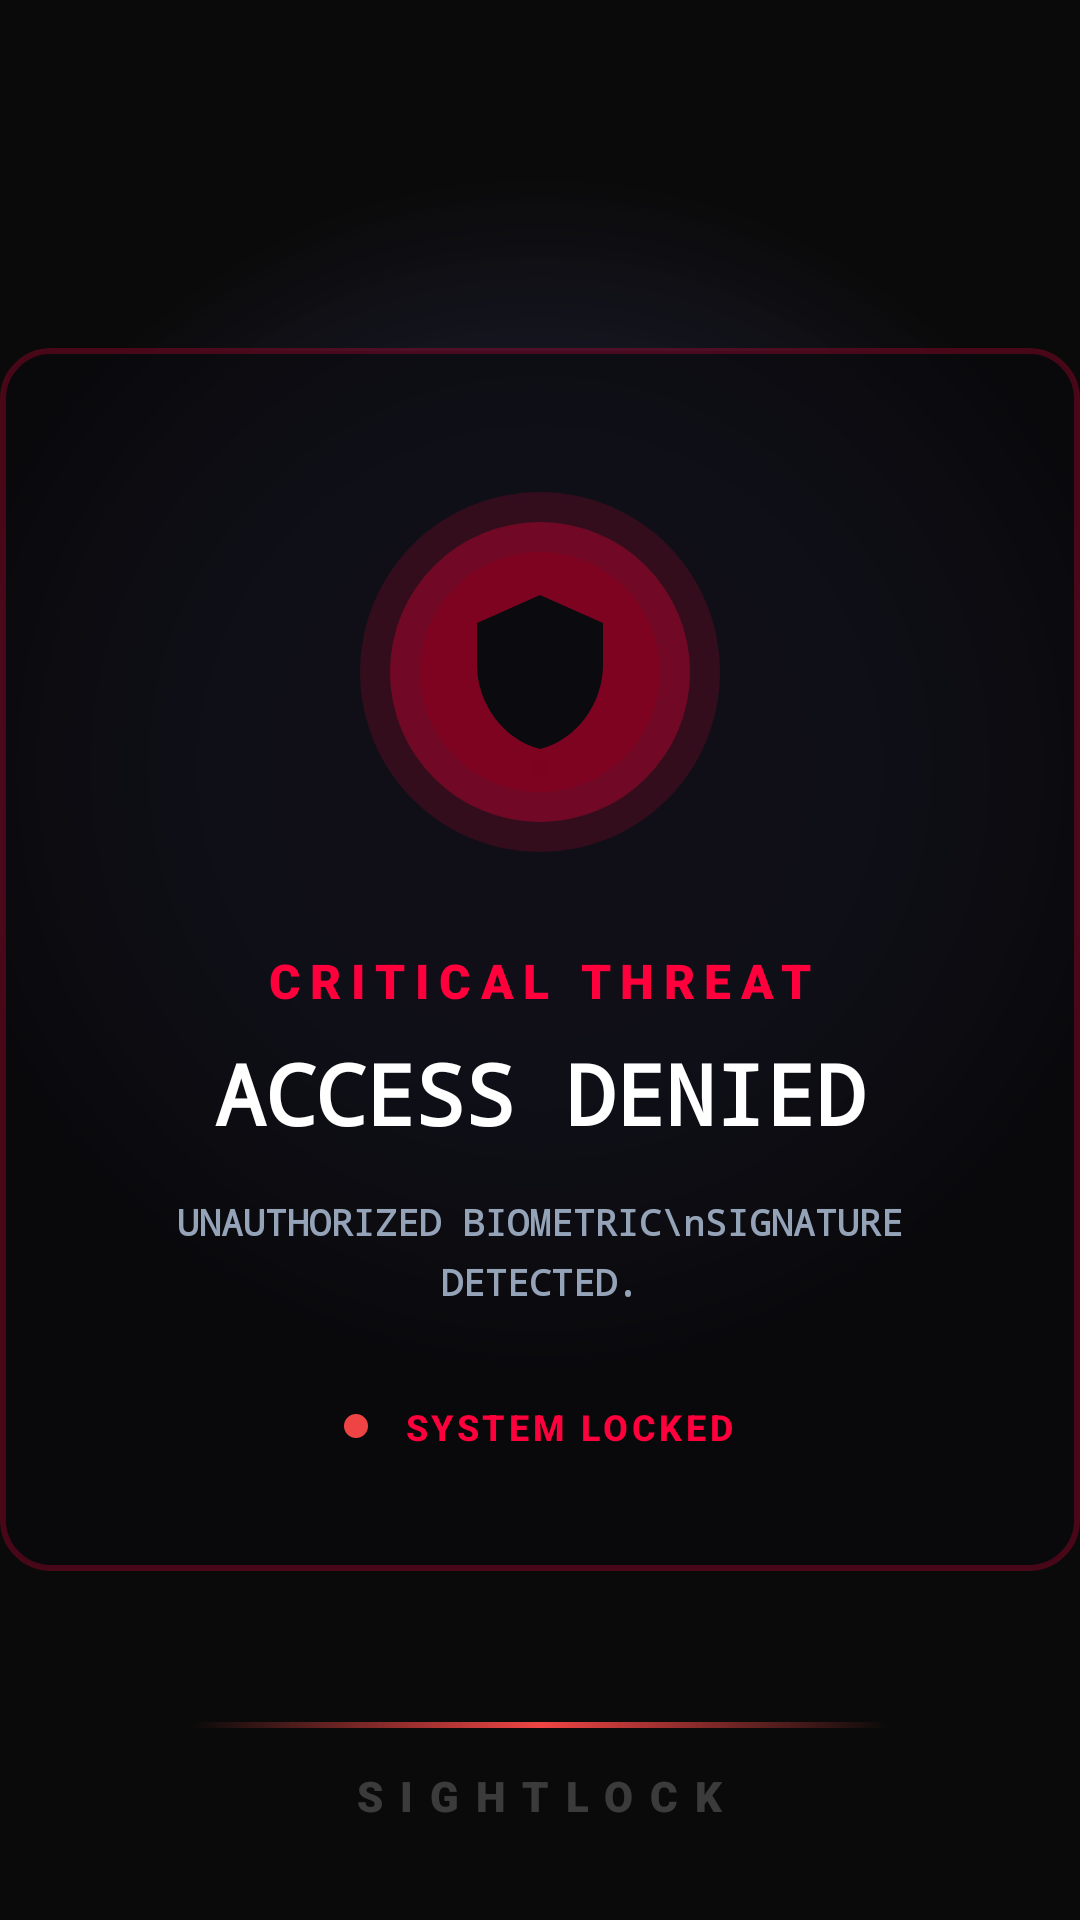

Locate icon controls on the screen. Image size 1080×1920, boxes as (x1, y1, x2, y2).
Privacy shield warning: (477, 595, 603, 749)
status dot: (344, 1414, 368, 1438)
